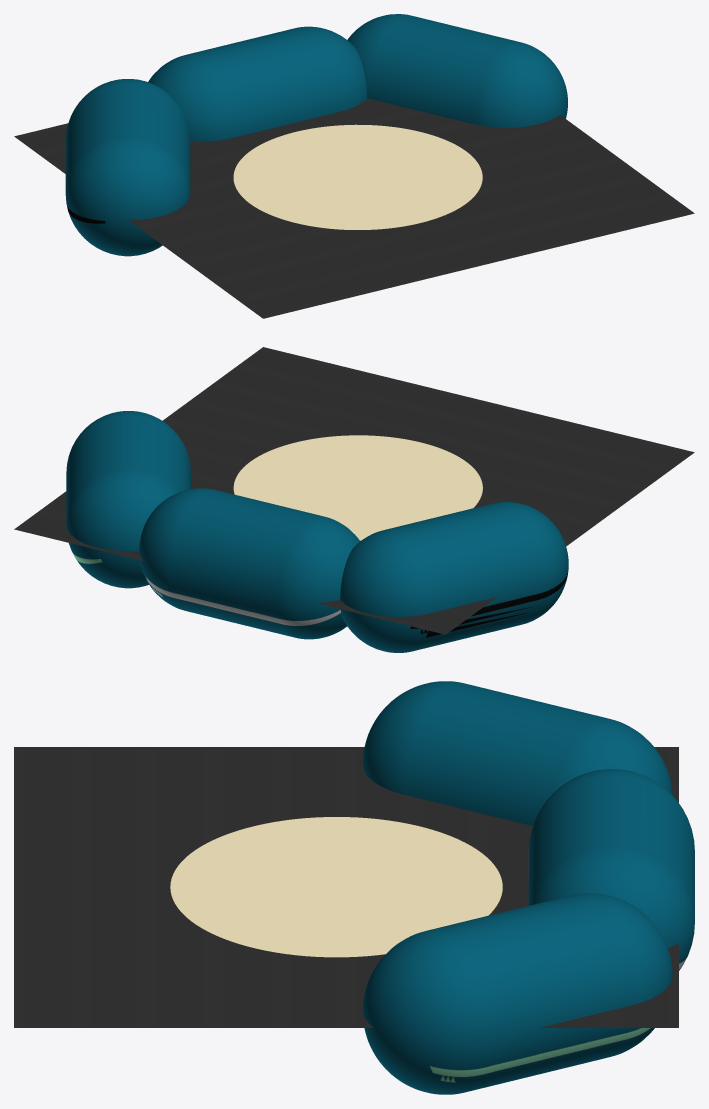
File: Zander_Render.obj
The picture shows the model from 3 angles, top to bottom: view 1: azimuth 30°, elevation 25°; view 2: azimuth 150°, elevation 25°; view 3: azimuth 270°, elevation 25°; orthographic projection. The views are drawn at different scales.
Parts seen in each view (by area): view 1: PROCEDURAL_MESHES_PLANE#0, Capsule, Disc 2, Capsule 2; view 2: PROCEDURAL_MESHES_PLANE#0, Capsule, Capsule 2, Disc 2; view 3: PROCEDURAL_MESHES_PLANE#0, Capsule, Disc 2, Capsule 2.
Part boxes in pixels (<box>): PROCEDURAL_MESHES_PLANE#0: <box>14,98,694,318</box>; Capsule: <box>148,14,567,141</box>; Disc 2: <box>233,124,482,229</box>; Capsule 2: <box>65,79,190,256</box>; PROCEDURAL_MESHES_PLANE#0: <box>14,347,694,634</box>; Capsule: <box>66,411,360,639</box>; Capsule 2: <box>340,502,568,652</box>; Disc 2: <box>233,435,482,540</box>; PROCEDURAL_MESHES_PLANE#0: <box>14,747,678,1027</box>; Capsule: <box>362,769,694,1094</box>; Disc 2: <box>170,817,502,957</box>; Capsule 2: <box>362,681,672,825</box>.
Bounding box in the file's own units: 22.5 × 5.05 × 20.49.
5 materials, 4 textured.
